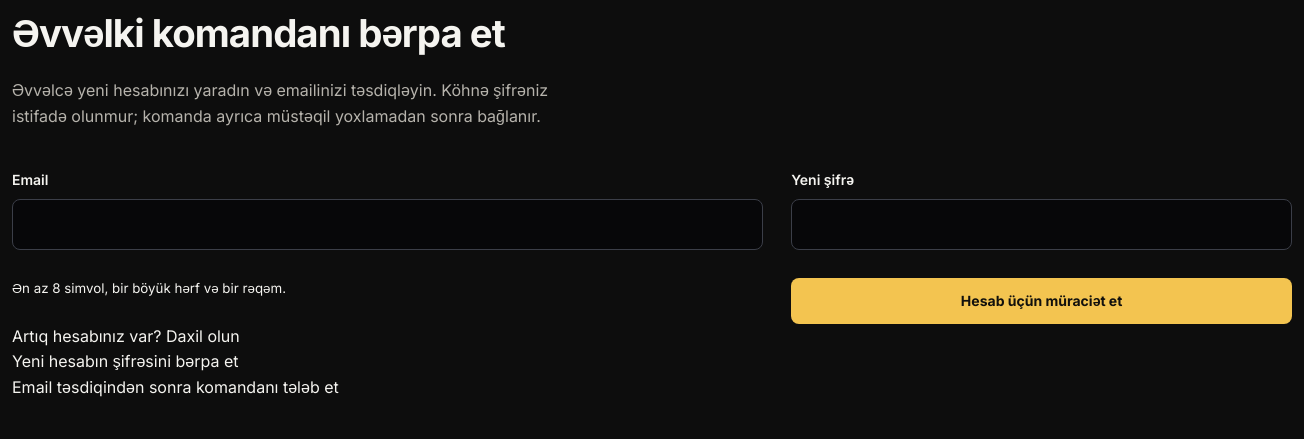
Test: activation sends a real service request and describes delivery truthfully
Step 1. Type "synthetic@example.test" into the field labelled "Email" → (388, 224), box [12,199,763,250]
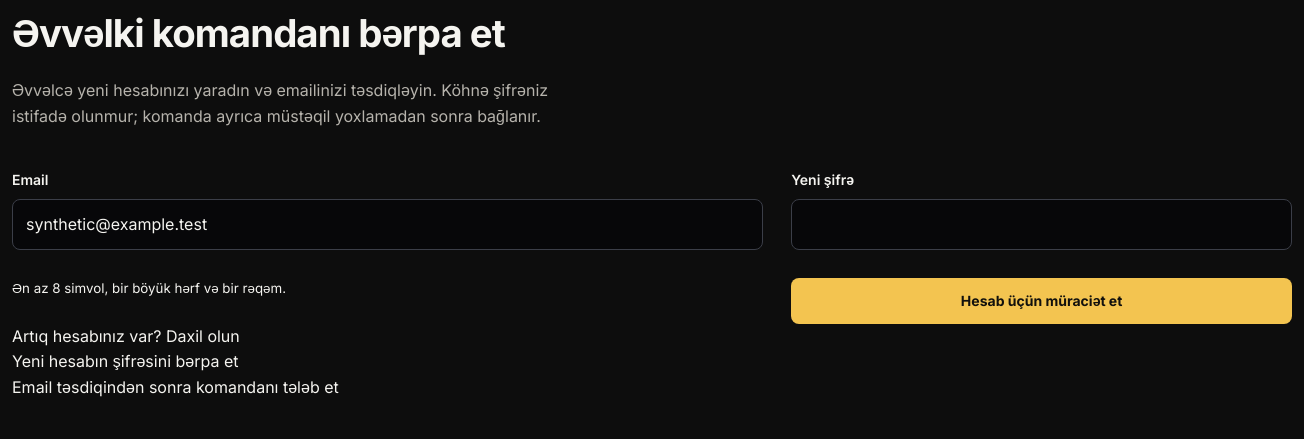
Step 2. Type "Secure1234" into the password field labelled "Yeni şifrə" → (1042, 224), box [791,199,1292,250]
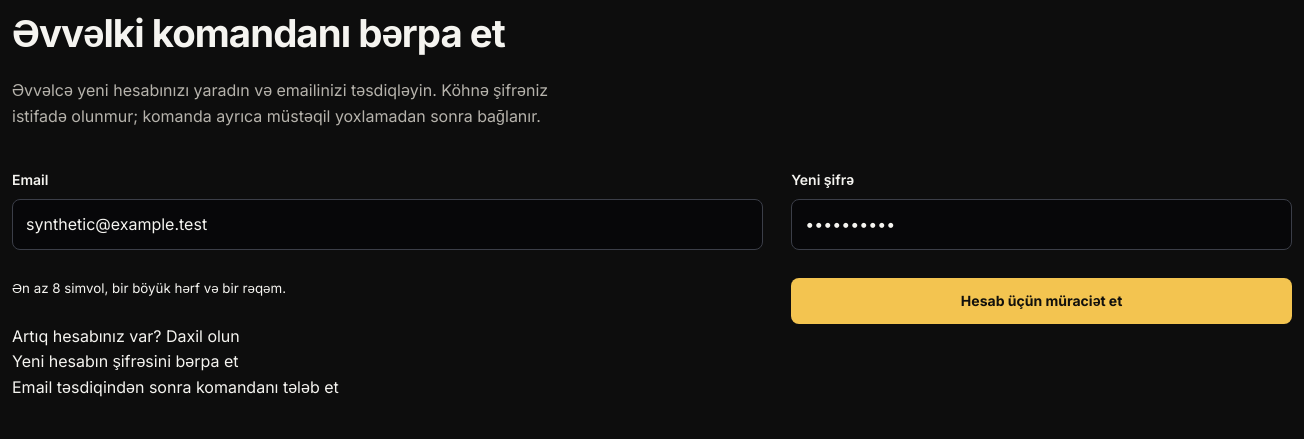
Step 3. Click the button "Hesab üçün müraciət et" → (1042, 301), box [791,278,1292,324]
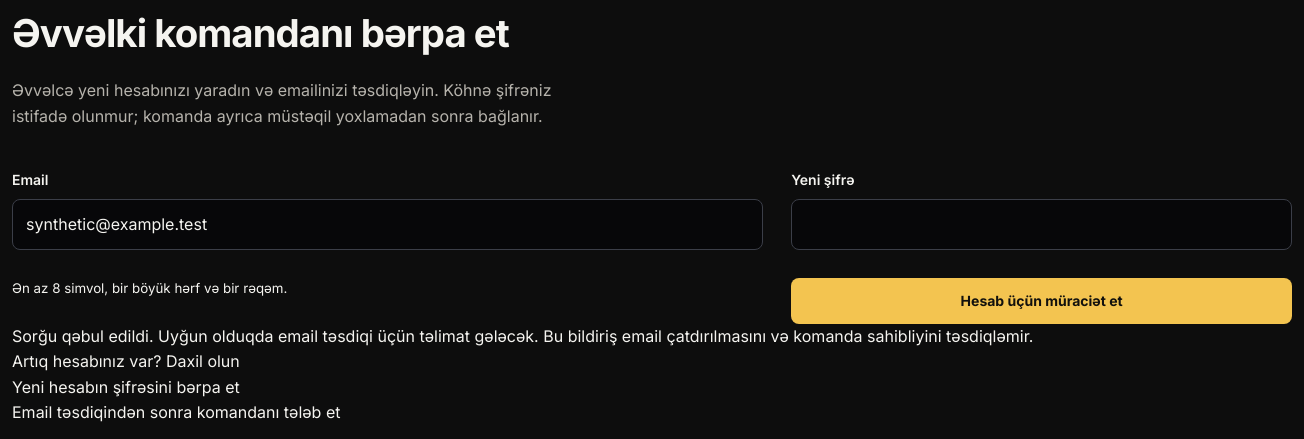
Now the message shows "çatdırılmasını", box [12,326,1033,346]
Now the password field labelled "Yeni şifrə" is empty, box [791,199,1292,250]
